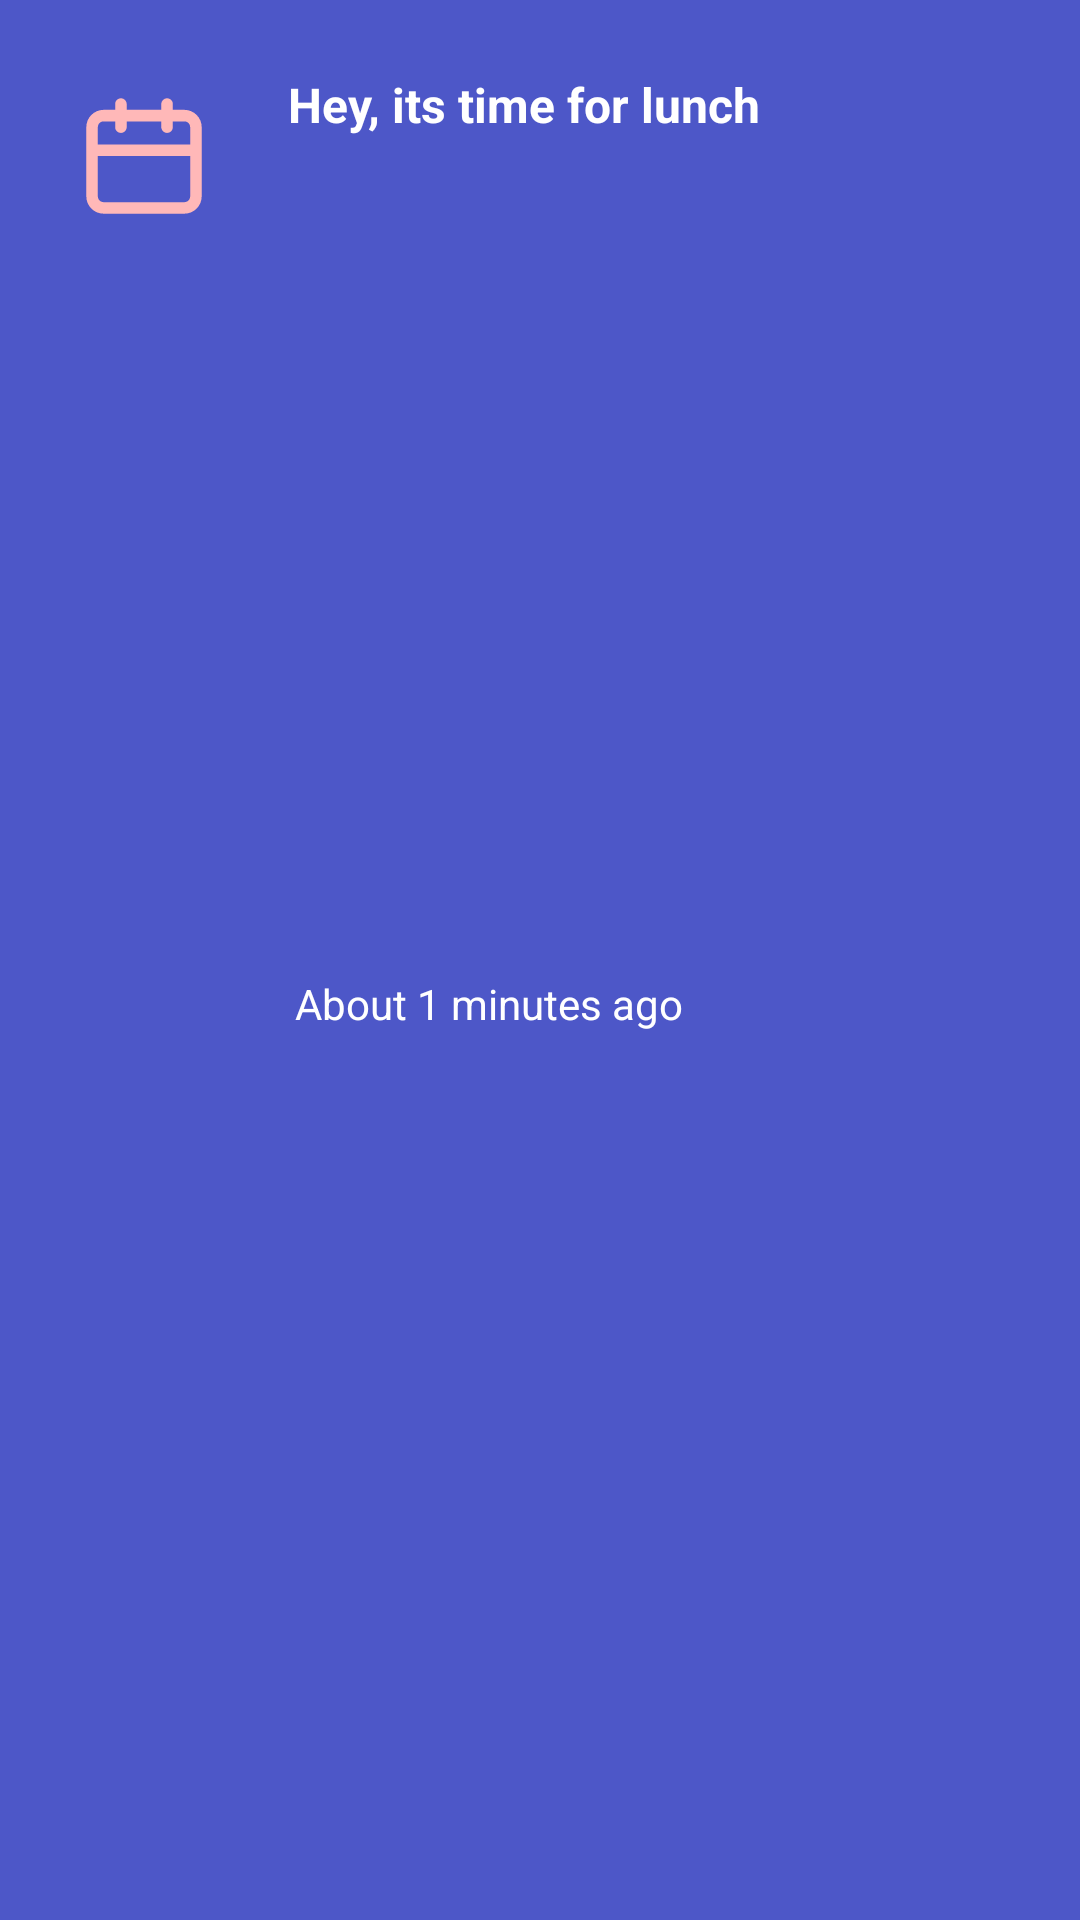

Where to tap for icons on this 1080 x 1920 app screen, as [x,y]:
calender: [144,156]
